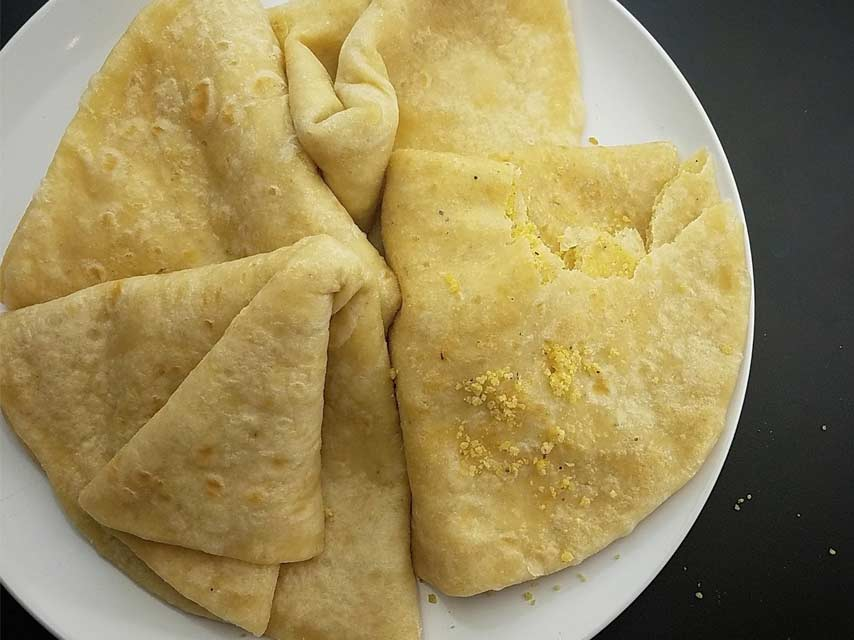Farata: (12, 17, 771, 633), (364, 116, 754, 550), (4, 271, 425, 639)
